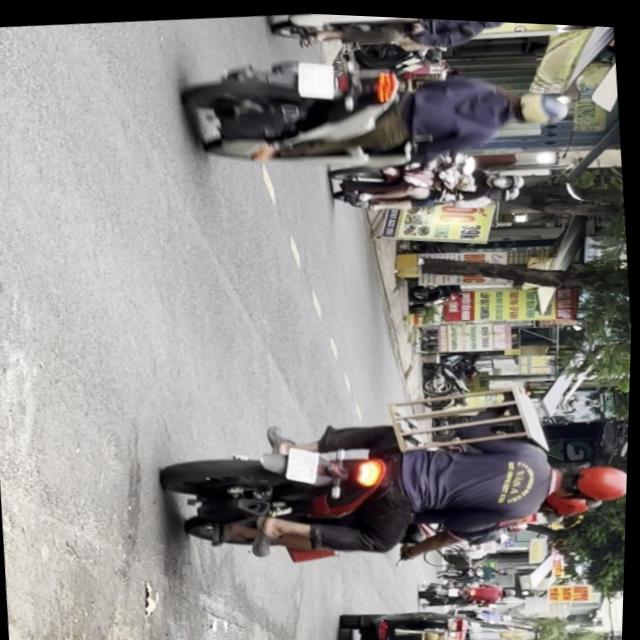helmet: (551, 451, 630, 502), (504, 81, 572, 124), (544, 486, 594, 513), (489, 164, 526, 185), (493, 179, 523, 196)
licenseplate: (158, 382, 631, 587), (179, 28, 578, 187), (325, 138, 529, 220), (260, 9, 540, 65)
nohelmet: (298, 57, 338, 96), (288, 443, 322, 482)
